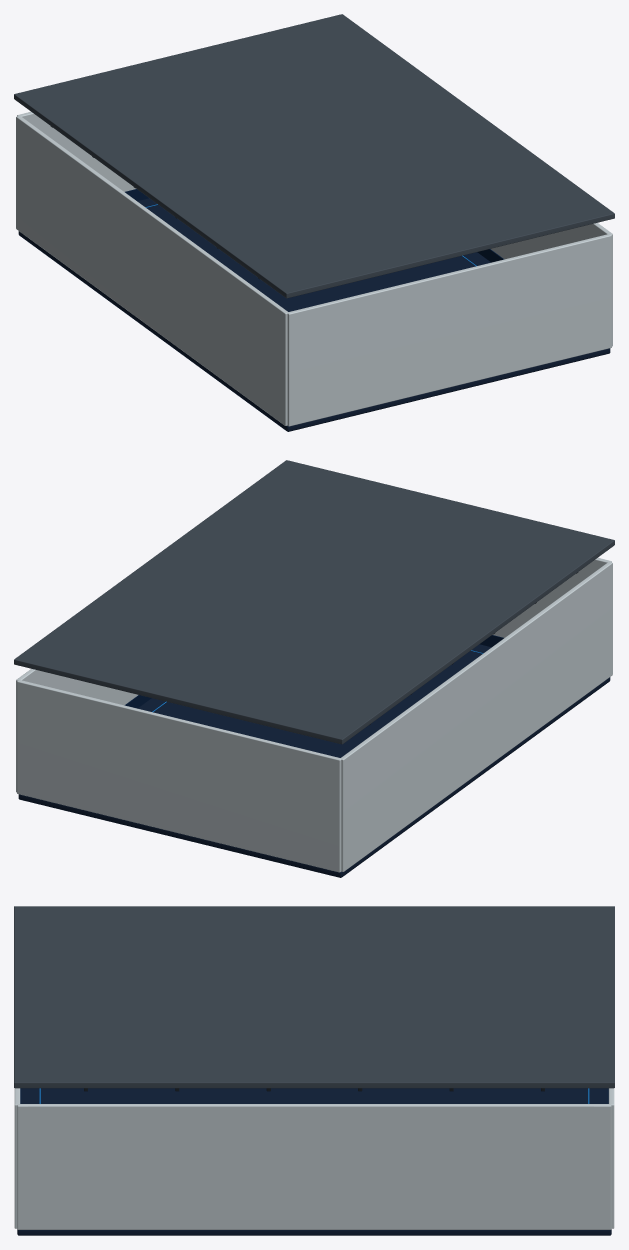
The model's file is recinto.obj.
The picture shows the model from 3 angles, top to bottom: view 1: azimuth 30°, elevation 25°; view 2: azimuth 150°, elevation 25°; view 3: azimuth 270°, elevation 25°; orthographic projection. The views are drawn at different scales.
Visible parts, largest first — view 1: Techo_Interior, Pared_Entrada, Pared_Lateral_Izquierda, Suelo_Recinto, Pared_Lateral_Derecha, Pared_Fondo; view 2: Techo_Interior, Pared_Fondo, Pared_Lateral_Izquierda, Suelo_Recinto, Pared_Lateral_Derecha, Pared_Entrada; view 3: Techo_Interior, Pared_Lateral_Derecha, Suelo_Recinto, Pared_Entrada, Pared_Fondo.
Boxes of the visible parts, bbox=[...] form: Techo_Interior: bbox=[14, 14, 614, 298]; Pared_Entrada: bbox=[287, 234, 611, 426]; Pared_Lateral_Izquierda: bbox=[16, 116, 288, 425]; Suelo_Recinto: bbox=[18, 198, 610, 431]; Pared_Lateral_Derecha: bbox=[491, 223, 612, 346]; Pared_Fondo: bbox=[17, 112, 136, 191]; Techo_Interior: bbox=[14, 460, 614, 744]; Pared_Fondo: bbox=[17, 680, 341, 872]; Pared_Lateral_Izquierda: bbox=[341, 562, 612, 871]; Suelo_Recinto: bbox=[18, 644, 610, 877]; Pared_Lateral_Derecha: bbox=[16, 669, 137, 792]; Pared_Entrada: bbox=[492, 558, 611, 637]; Techo_Interior: bbox=[14, 906, 614, 1088]; Pared_Lateral_Derecha: bbox=[17, 1104, 611, 1229]; Suelo_Recinto: bbox=[17, 1088, 611, 1235]; Pared_Entrada: bbox=[14, 1088, 20, 1228]; Pared_Fondo: bbox=[608, 1088, 614, 1228].
Size of the model in its own units: 18.3 by 7.5 by 26.3.
